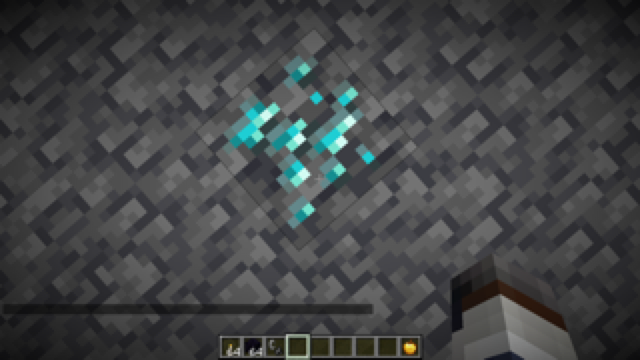diamond: (197, 32, 420, 250)
